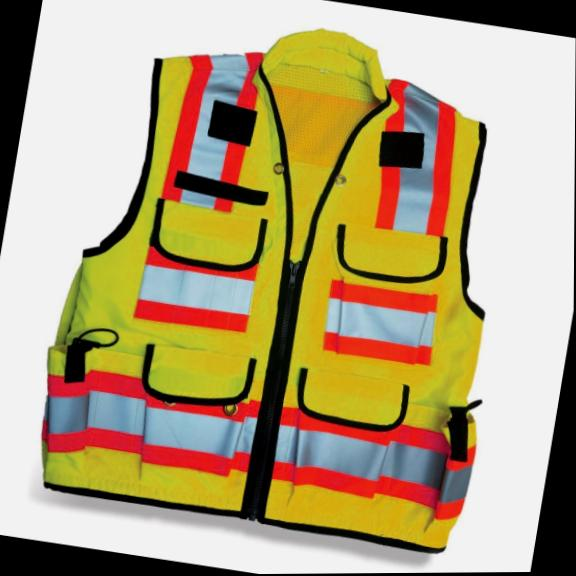safety_vest: (23, 0, 546, 559)
